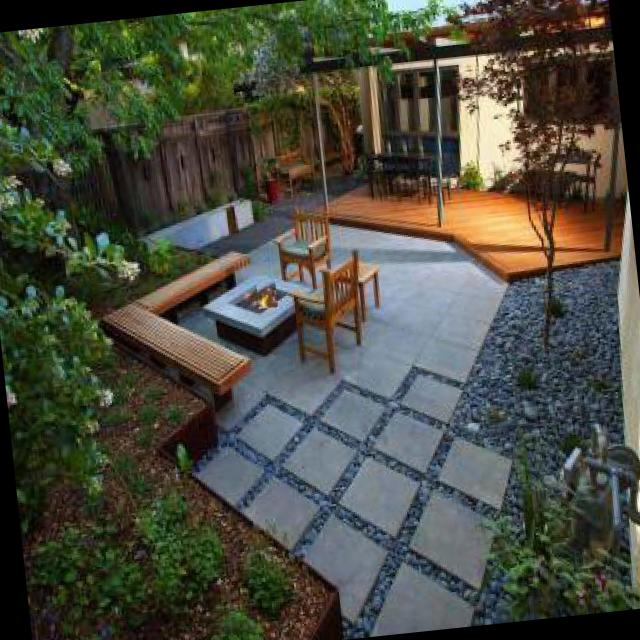fire: (255, 278, 278, 308)
